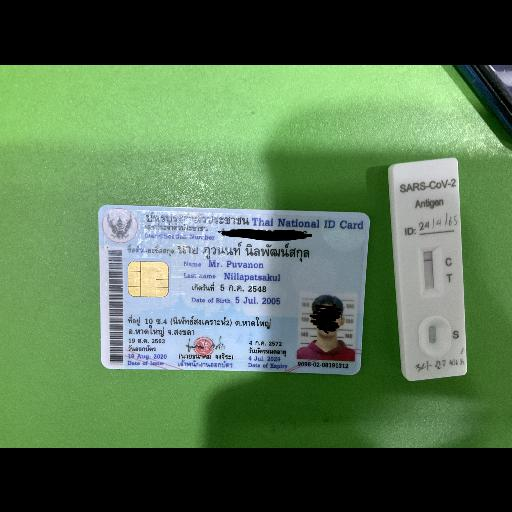Neg: (391, 159, 468, 383)
